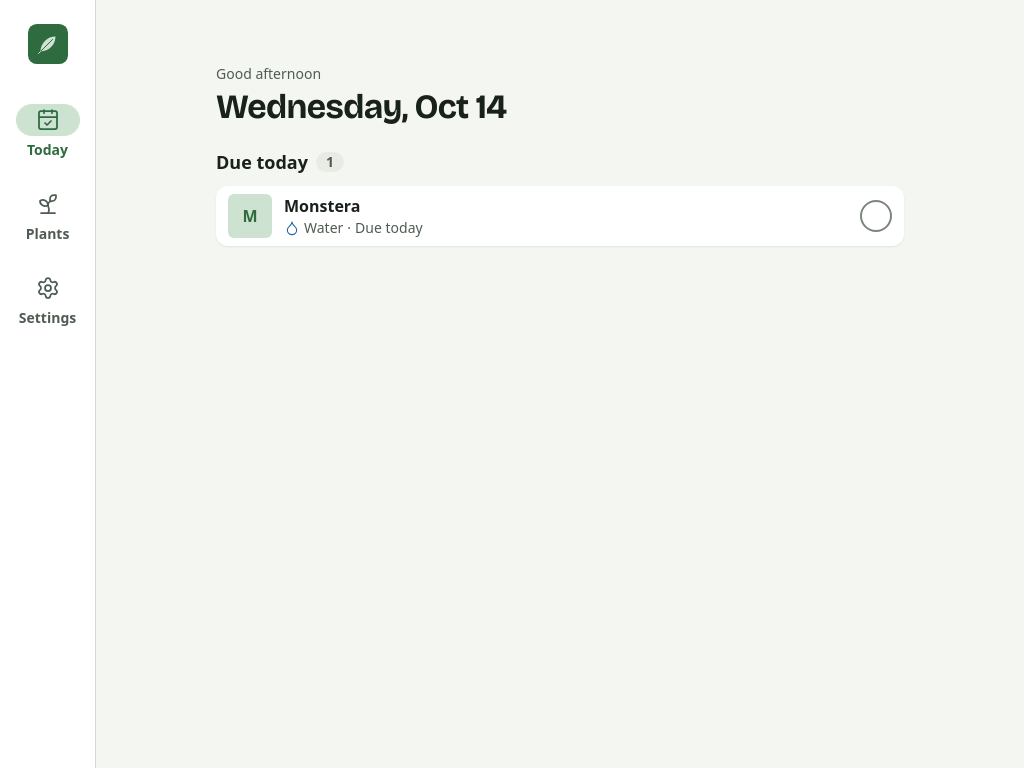
Test case: Today › puts the task back if the save fails
Click the button named "Mark Water Monstera done" at (876, 216), box [852,192,900,240]
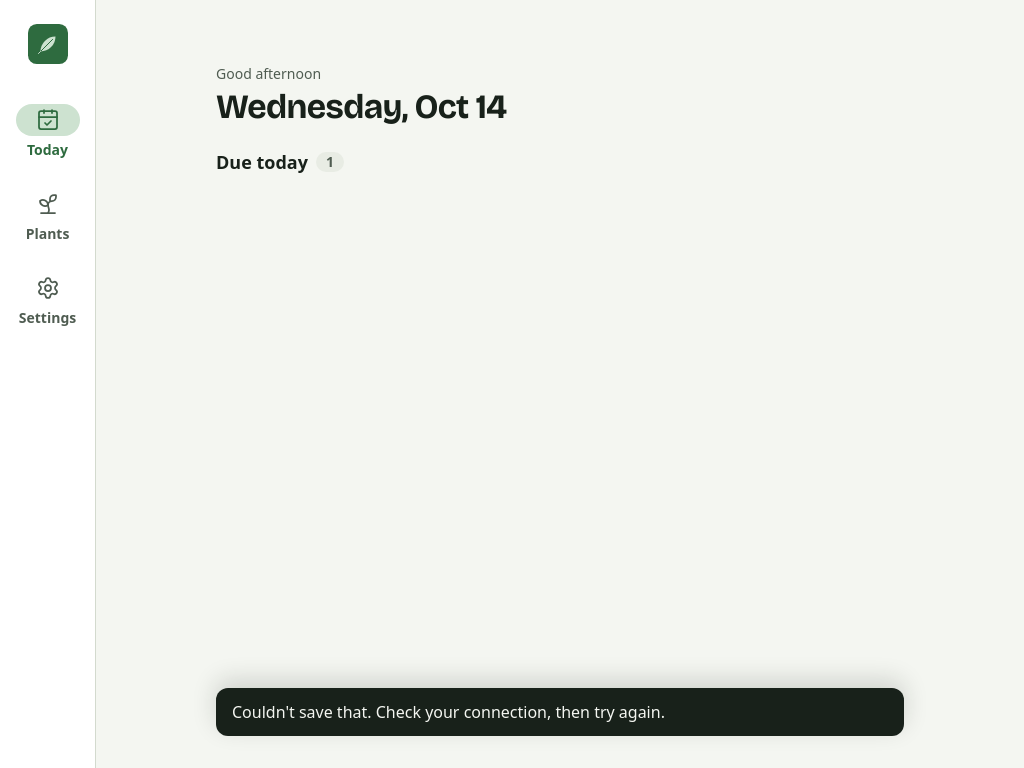
Now the text "Couldn't save that. Check your connection, then try again." is shown, box [232,701,665,723]
